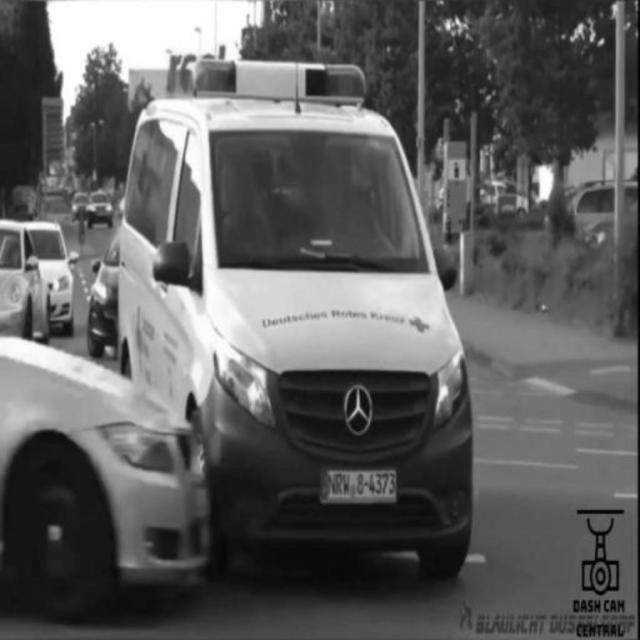accident: (17, 93, 485, 597)
vehicle: (89, 190, 114, 228)
